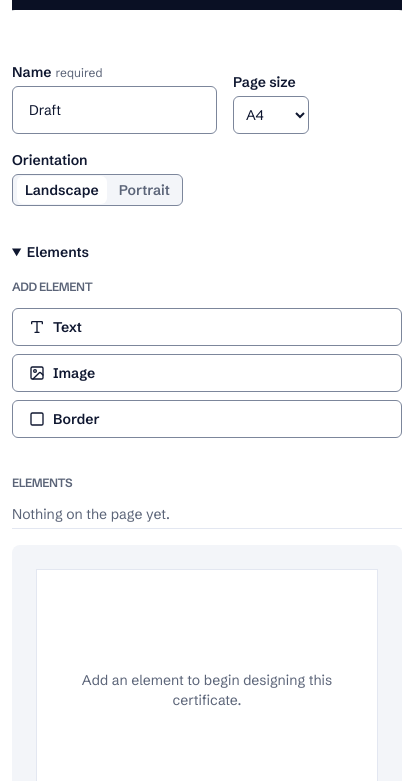
Test: ElementInspector (via TemplateEditorShell) › shows only the empty-inspector placeholder when nothing is selected, and the border-only fields when a border is selected
This screenshot has width=414, height=781.
Step 1. Click the button "Border" → point(76, 419), box [12,400,402,438]
(page scrolled)
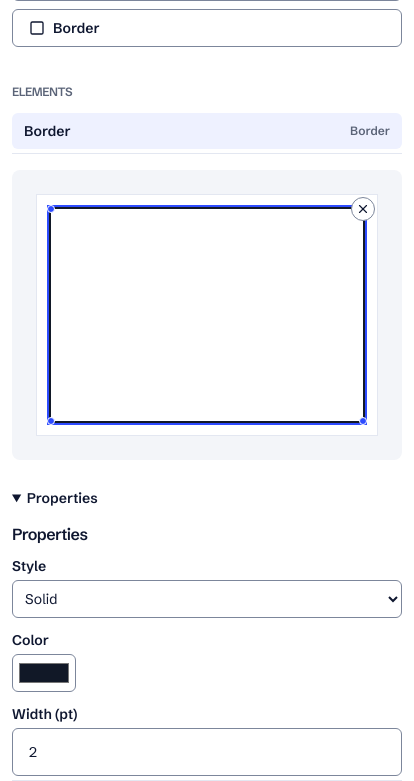
Check: the dropdown labelled "Style" is shown, box [12,580,402,618]
Check: the number field labelled "Width (pt)" is shown, box [12,728,402,776]
